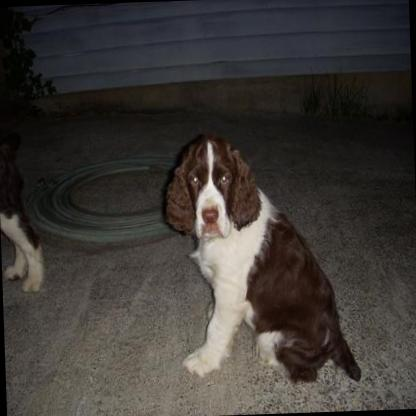English_springer: (158, 125, 361, 390)
